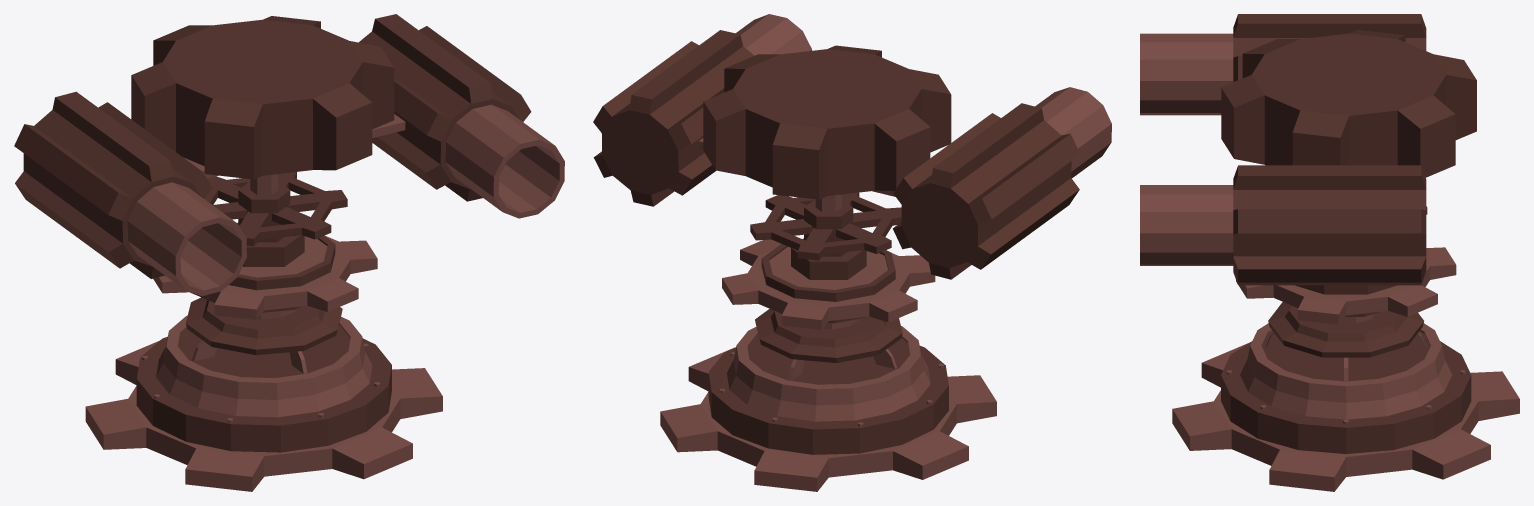
Rendered from gear_cannon_1.glb.
3 views of the same model, side by side, from view 1: azimuth 30°, elevation 25°; view 2: azimuth 150°, elevation 25°; view 3: azimuth 270°, elevation 25° (orthographic). The views are drawn at different scales.
Parts seen in each view (by area): view 1: _MeshInstance3D_155, _MeshInstance3D_154, _MeshInstance3D_156; view 2: _MeshInstance3D_155, _MeshInstance3D_154, _MeshInstance3D_156; view 3: _MeshInstance3D_155, _MeshInstance3D_154, _MeshInstance3D_156.
Boxes of the visible parts, bbox=[...] form: _MeshInstance3D_155: bbox=[14, 14, 564, 296]; _MeshInstance3D_154: bbox=[85, 236, 442, 491]; _MeshInstance3D_156: bbox=[153, 172, 377, 319]; _MeshInstance3D_155: bbox=[593, 14, 1111, 279]; _MeshInstance3D_154: bbox=[660, 244, 996, 491]; _MeshInstance3D_156: bbox=[722, 192, 935, 329]; _MeshInstance3D_155: bbox=[1140, 14, 1476, 285]; _MeshInstance3D_154: bbox=[1172, 285, 1519, 491]; _MeshInstance3D_156: bbox=[1236, 206, 1456, 324].
Size of the model in its own units: 1.88 by 1.51 by 1.5.
